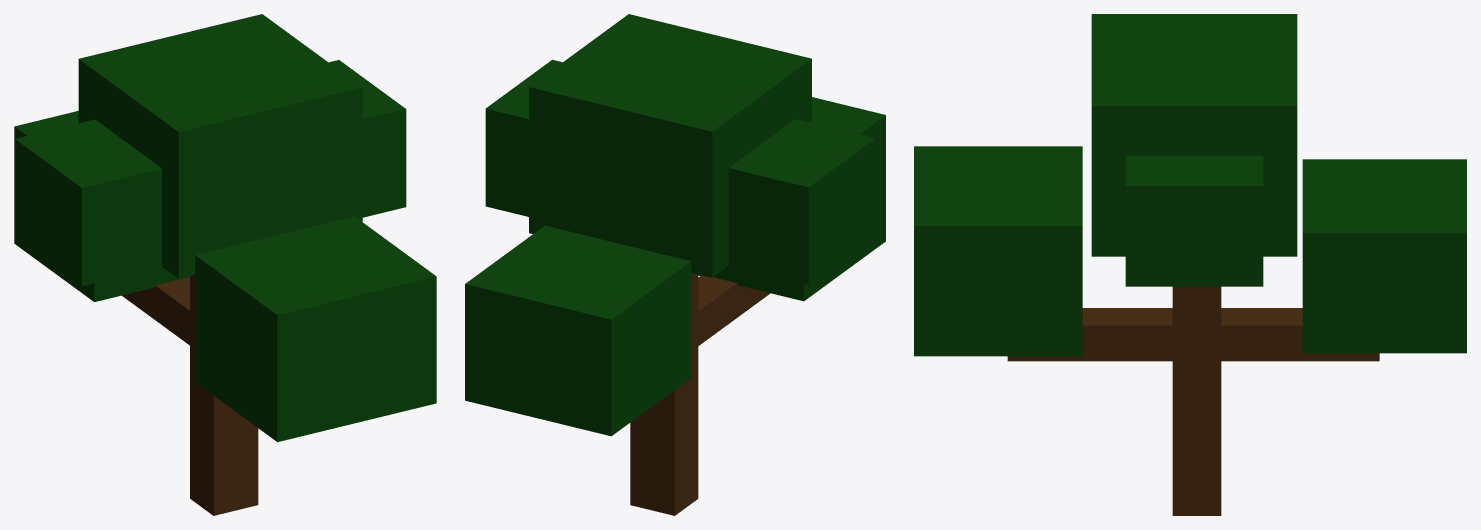
The model's file is dec plant10.FBX.
3 renders of one model, left to right at view 1: azimuth 30°, elevation 25°; view 2: azimuth 150°, elevation 25°; view 3: azimuth 270°, elevation 25°, orthographic. The views are drawn at different scales.
Visible parts, largest first — view 1: dec plant10; view 2: dec plant10; view 3: dec plant10.
Part boxes in pixels (left/top/right/bottom): dec plant10: left=14, top=14, right=436, bottom=515; dec plant10: left=465, top=14, right=885, bottom=515; dec plant10: left=914, top=14, right=1466, bottom=515.
Size of the model in its own units: 6.65 by 8.44 by 9.56.
